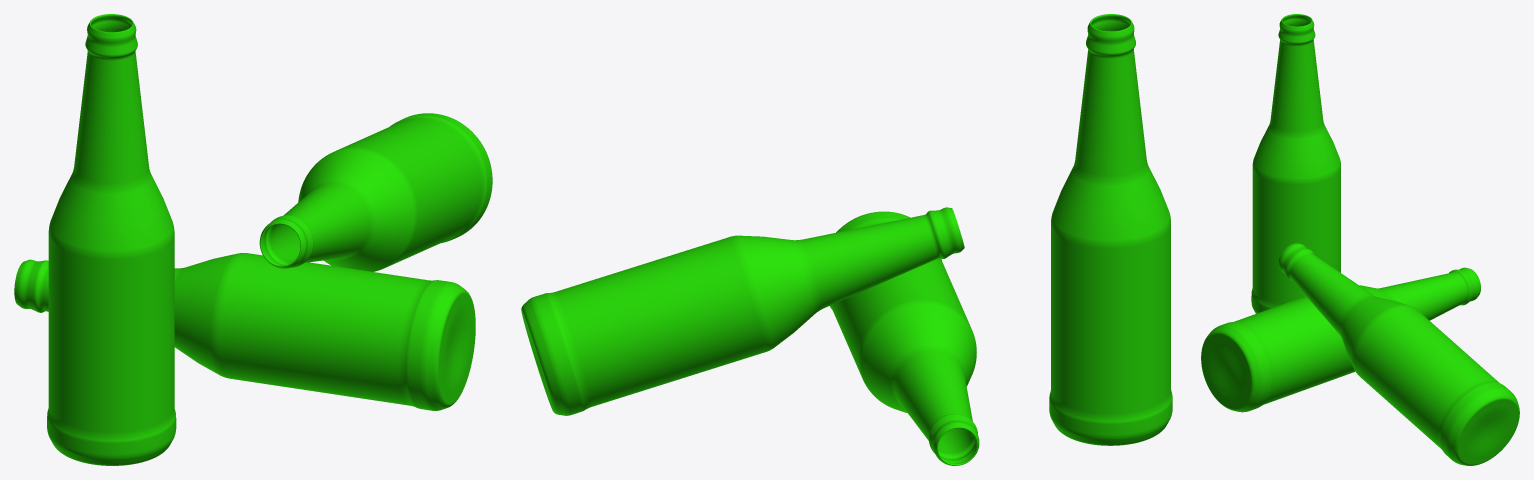
Rendered from bottle.fbx.
3 views of the same model, side by side, from view 1: azimuth 30°, elevation 25°; view 2: azimuth 150°, elevation 25°; view 3: azimuth 270°, elevation 25° (orthographic). The views are drawn at different scales.
Parts seen in each view (by area): view 1: Cylinder, Cylinder.001, Cylinder.002; view 2: Cylinder.002, Cylinder, Cylinder.001; view 3: Cylinder.002, Cylinder, Cylinder.001.
Part boxes in pixels (x1=…): Cylinder: x1=47, y1=14, x2=176, y2=465; Cylinder.001: x1=14, y1=253, x2=475, y2=410; Cylinder.002: x1=259, y1=113, x2=492, y2=271; Cylinder.002: x1=521, y1=207, x2=964, y2=415; Cylinder: x1=1049, y1=14, x2=1172, y2=445; Cylinder.001: x1=830, y1=211, x2=979, y2=465; Cylinder.002: x1=1278, y1=243, x2=1519, y2=465; Cylinder: x1=1251, y1=14, x2=1340, y2=313; Cylinder.001: x1=1201, y1=267, x2=1480, y2=412.
Size of what is drawn, in the model's own units: 1484 by 1080 by 1069.
